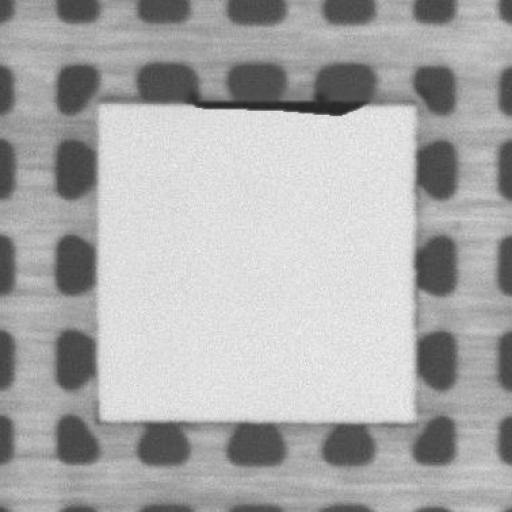DIE_BROKEN: (181, 93, 374, 114)
